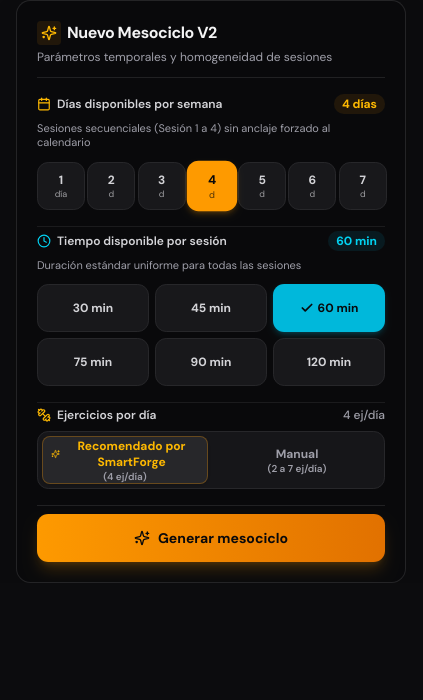
Test: TASK-34: MesocycleWizardV2.tsx — Routine Engine V2 Mesocycle Setup Wizard (RF-03, RF-04, Constitución Art. 2) › Cálculo reactivo dinámico de N ejercicios diarios (RF-03 CA-03.3, CA-03.4) › should reactively recalculate N when changing the time block in recommended mode
Expected: the text "Recomendado por SmartForge" is shown, left=51, top=438, right=199, bottom=470
Expected: the text "(4 ej/día)" is shown, left=103, top=470, right=147, bottom=483
Click the button "30 min" at (93, 308), box left=37, top=284, right=149, bottom=332
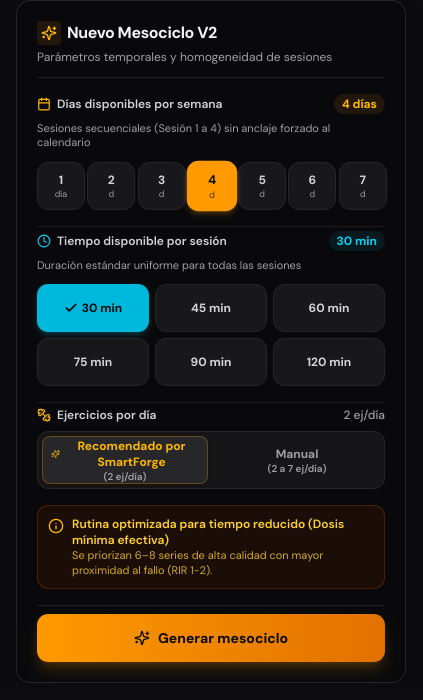
Result: the text "(2 ej/día)" is shown at left=103, top=470, right=146, bottom=483
Click the button "90 min" at (211, 362), box left=155, top=338, right=267, bottom=386
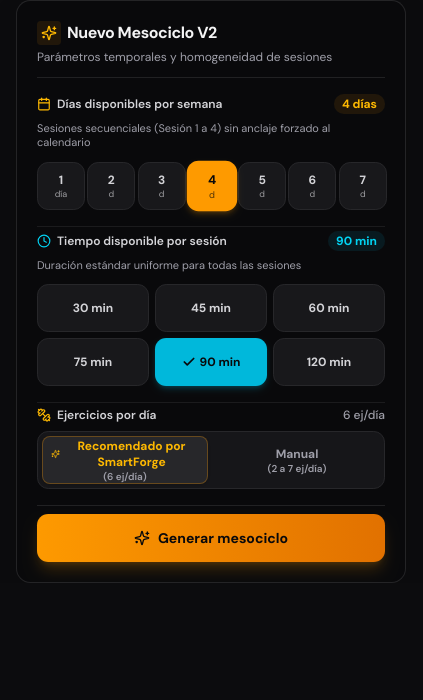
Expected: the button "Generar mesociclo" is enabled, left=37, top=514, right=385, bottom=562
Result: the text "(6 ej/día)" is shown at left=103, top=470, right=147, bottom=483
